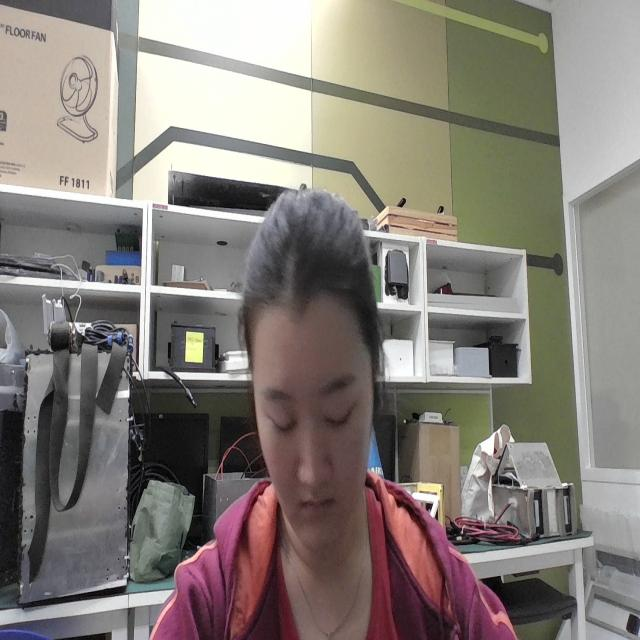Without Helmet: (221, 171, 426, 574)
